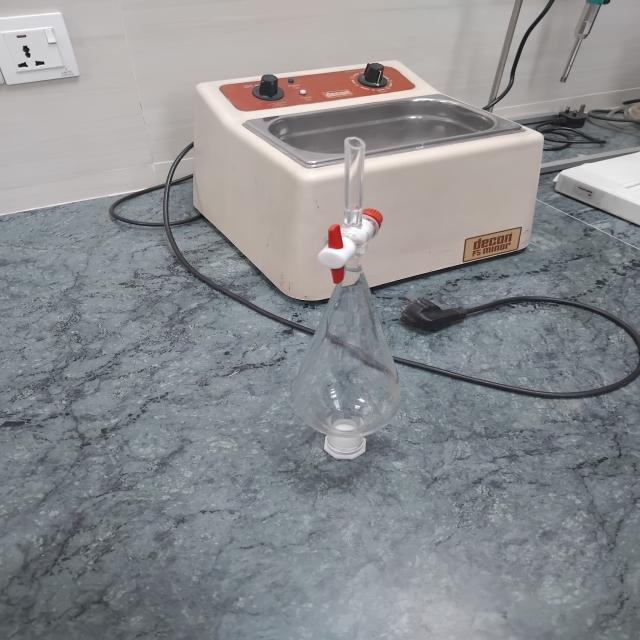Separating_Funnel: (275, 105, 447, 486)
